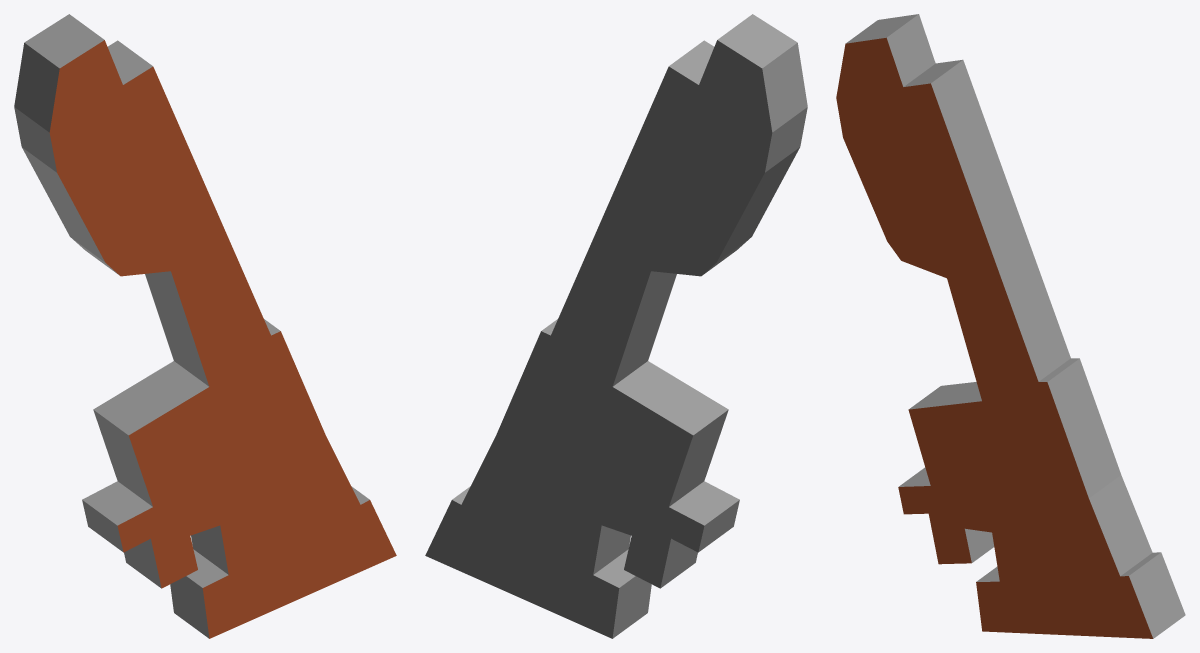
Rendered from construction_1252_assumed_A_Casa_h6m.obj.
3 renders of one model, left to right at view 1: azimuth 30°, elevation 25°; view 2: azimuth 150°, elevation 25°; view 3: azimuth 330°, elevation 25°, orthographic. The views are drawn at different scales.
Visible parts, largest first — view 1: construction_1252_assumed_A_Casa; view 2: construction_1252_assumed_A_Casa; view 3: construction_1252_assumed_A_Casa.
Boxes of the visible parts, x1,y1,x2,y2 form: construction_1252_assumed_A_Casa: (14,14,396,638); construction_1252_assumed_A_Casa: (425,14,807,638); construction_1252_assumed_A_Casa: (836,14,1185,638).
Size of the model in its own units: 33.89 by 58.26 by 6.
